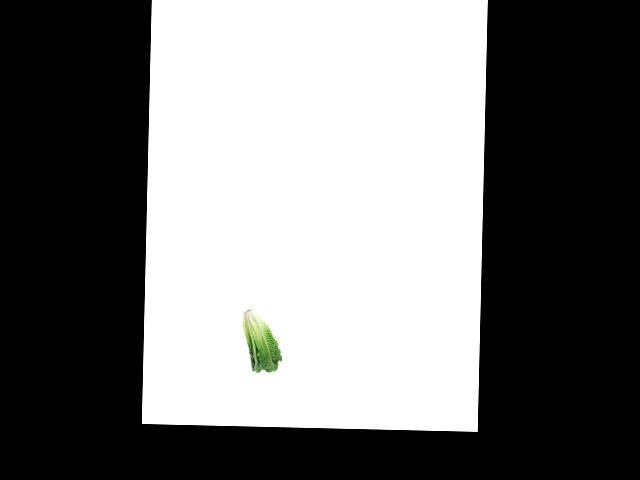lettuce: (239, 305, 282, 374)
